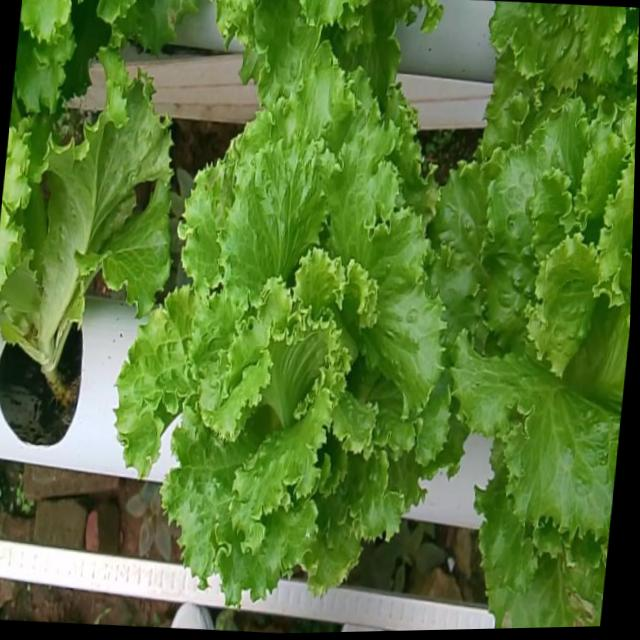Mature: (121, 74, 454, 610), (437, 106, 635, 551)
